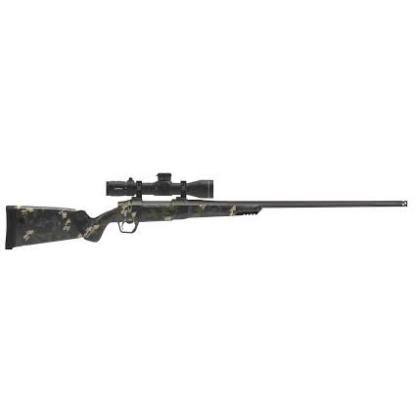gun: (2, 170, 408, 248)
